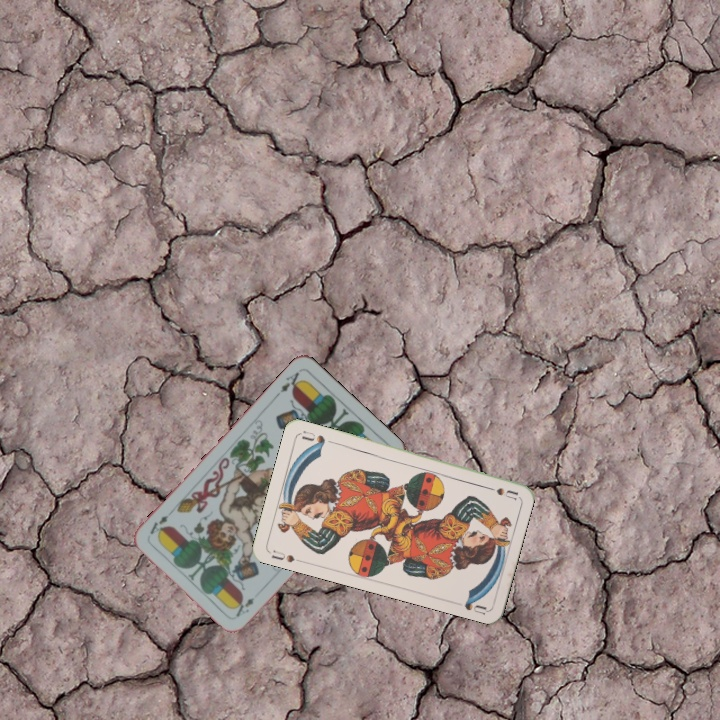EA: (276, 368, 305, 395), (232, 593, 257, 620)
SU: (479, 482, 520, 502), (267, 546, 297, 565)
